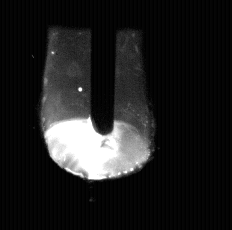arame: (92, 0, 116, 135)
poca: (44, 0, 151, 230)
